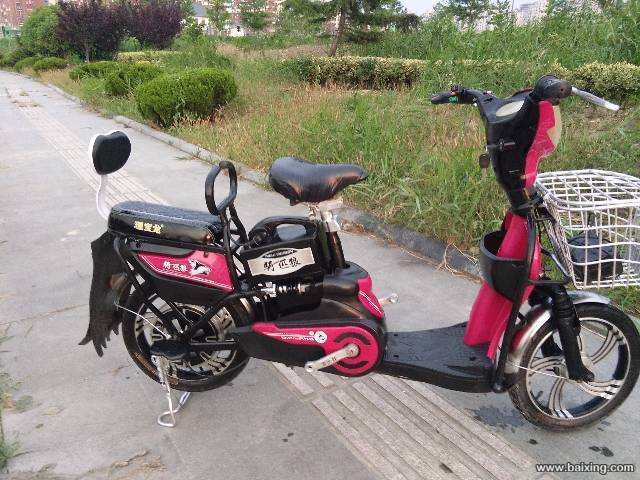电动车: (74, 66, 640, 451)
